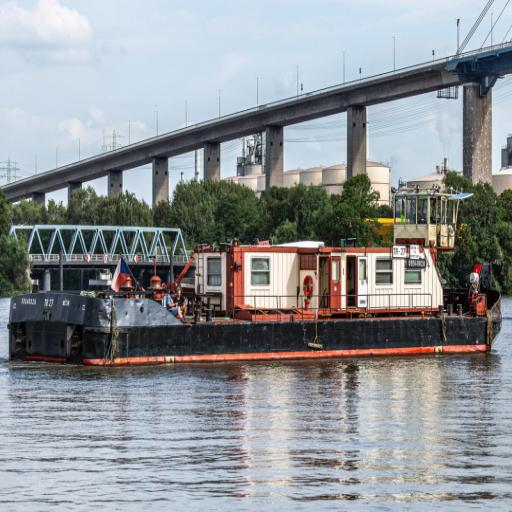tugboat: (6, 185, 505, 369)
